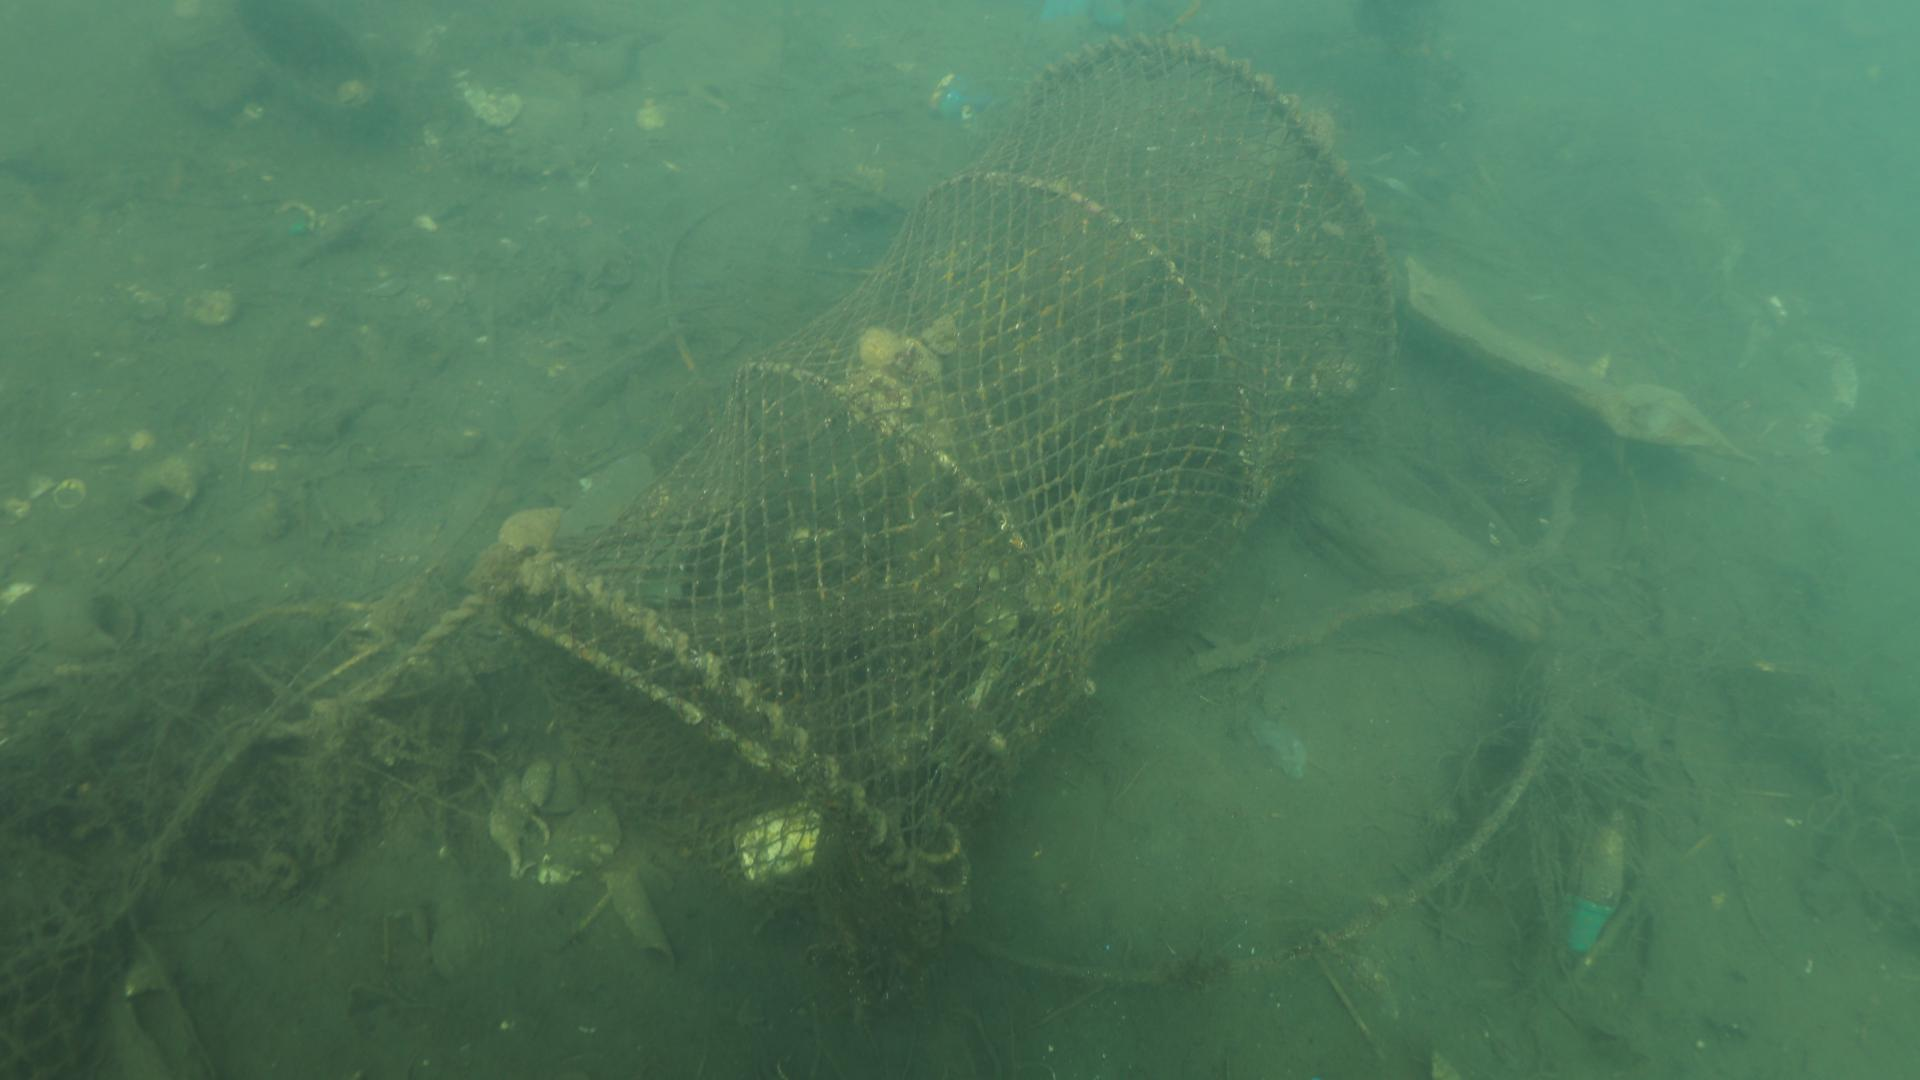bundle of ropes: (272, 547, 551, 738)
spring fish trap: (498, 28, 1394, 992)
